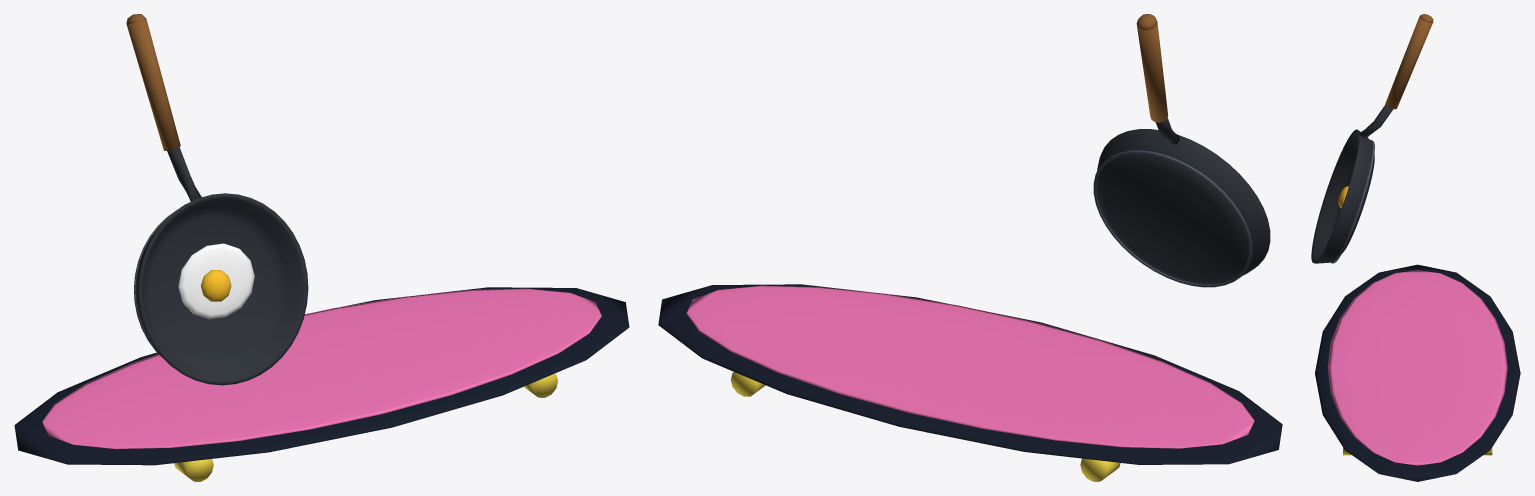
File: props-y.glb
The picture shows the model from 3 angles, left to right: view 1: azimuth 30°, elevation 25°; view 2: azimuth 150°, elevation 25°; view 3: azimuth 270°, elevation 25°; orthographic projection. The views are drawn at different scales.
Visible parts, largest first — view 1: y-board, y-pan, y-pan~toss; view 2: y-board, y-pan; view 3: y-board, y-pan.
Boxes of the visible parts, x1,y1,x2,y2 form: y-board: (14, 287, 629, 481); y-pan: (126, 14, 308, 385); y-pan~toss: (178, 243, 254, 319); y-board: (658, 284, 1282, 481); y-pan: (1093, 14, 1270, 287); y-board: (1315, 264, 1520, 481); y-pan: (1311, 14, 1433, 263).
Size of the model in its own units: 0.6 by 0.404 by 0.2441.
